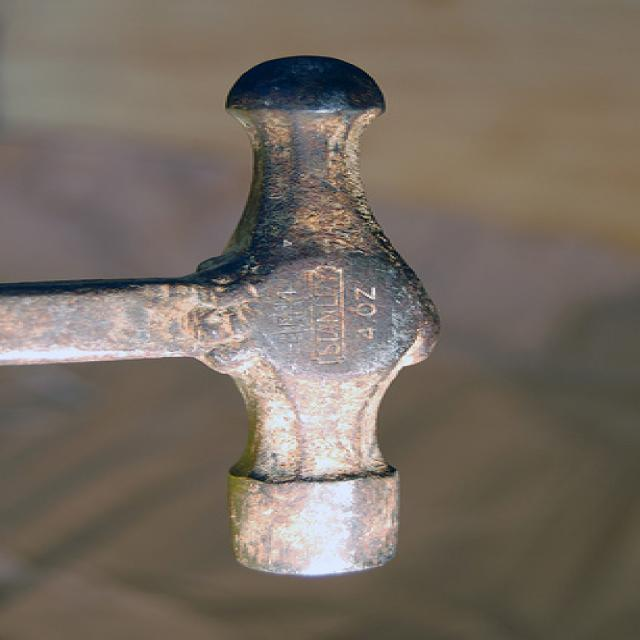hammer: (0, 48, 454, 582)
